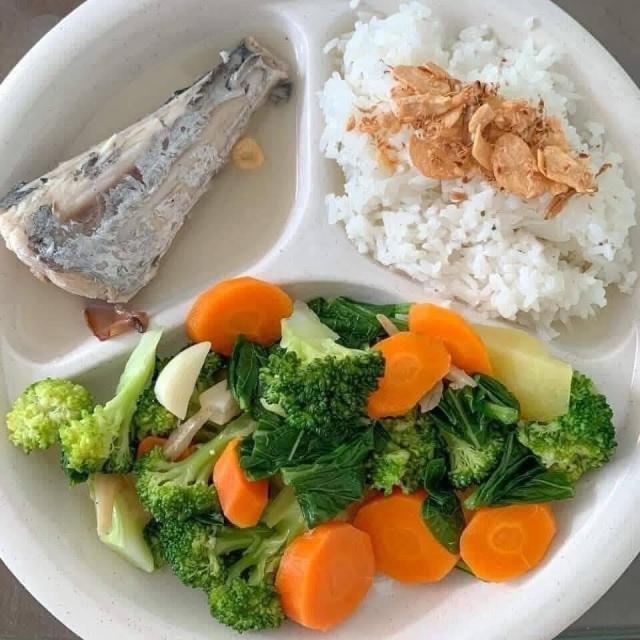Fish: (1, 36, 287, 307)
Plate: (0, 0, 418, 324)
Rice: (319, 2, 639, 338)
Vegetables: (7, 276, 621, 633), (9, 416, 10, 417)
